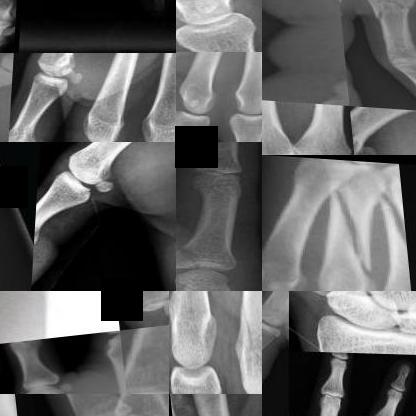fracture: (305, 184, 380, 275), (370, 185, 409, 288), (227, 291, 261, 357), (176, 236, 220, 273), (360, 0, 415, 25), (130, 291, 169, 317)
